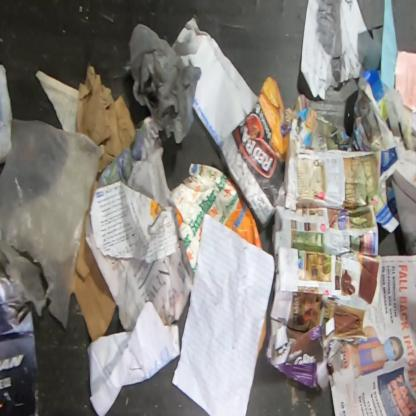cardboard: (170, 164, 263, 275), (76, 66, 136, 175), (73, 239, 116, 342)
soft_plastic: (0, 119, 105, 328), (129, 24, 201, 144)
